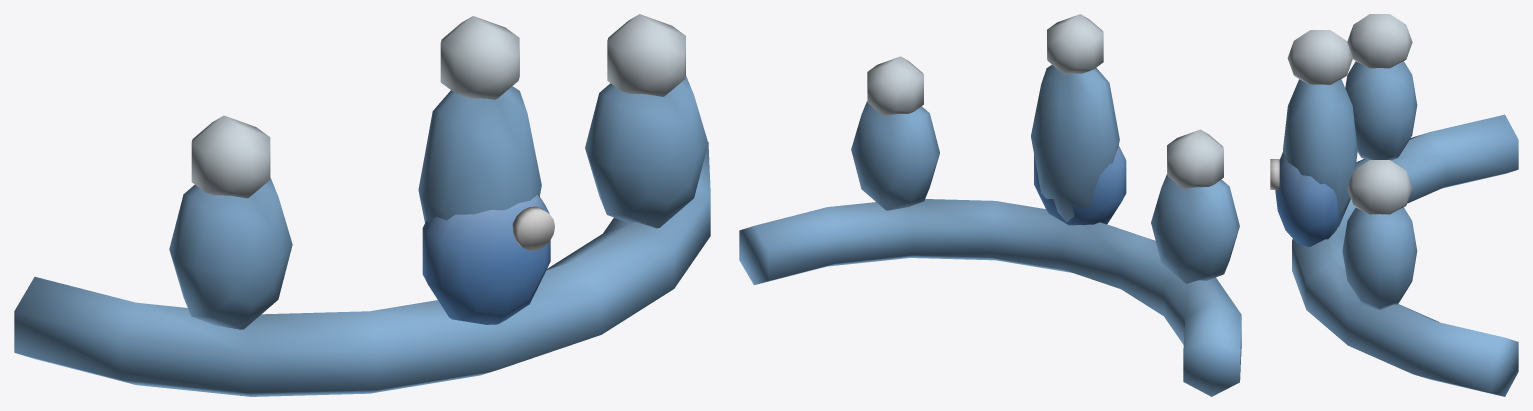
The model's file is acc-head-rare.glb.
The picture shows the model from 3 angles, left to right: view 1: azimuth 30°, elevation 25°; view 2: azimuth 150°, elevation 25°; view 3: azimuth 270°, elevation 25°; orthographic projection. The views are drawn at different scales.
Visible parts, largest first — view 1: acc-head-rare; view 2: acc-head-rare; view 3: acc-head-rare.
Part boxes in pixels (x1=…): acc-head-rare: x1=14, y1=14, x2=710, y2=396; acc-head-rare: x1=739, y1=14, x2=1241, y2=396; acc-head-rare: x1=1270, y1=14, x2=1518, y2=396.
Size of the model in its own units: 0.1599 by 0.078 by 0.0688.
